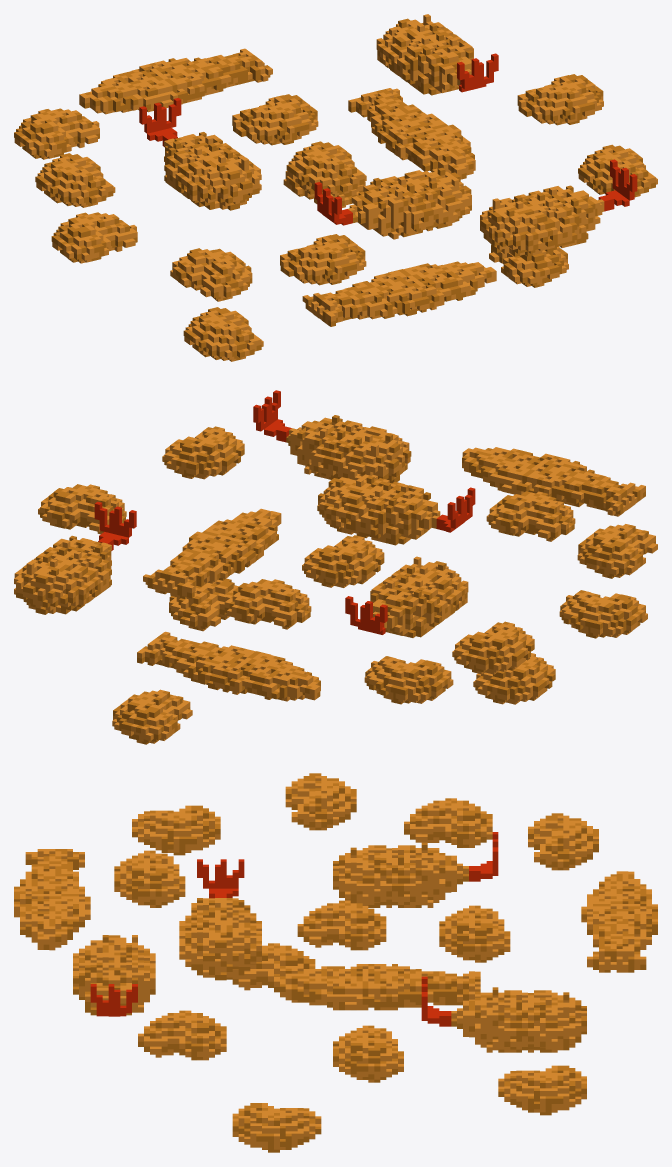
File: fried_fish_inner.obj
3 renders of one model, top to bottom at view 1: azimuth 30°, elevation 25°; view 2: azimuth 150°, elevation 25°; view 3: azimuth 270°, elevation 25°, orthographic. The views are drawn at different scales.
Parts seen in each view (by area): view 1: fried_fish_inner; view 2: fried_fish_inner; view 3: fried_fish_inner.
Boxes of the visible parts, x1,y1,x2,y2 form: fried_fish_inner: (14, 14, 657, 361); fried_fish_inner: (14, 390, 657, 744); fried_fish_inner: (14, 773, 657, 1152).
Size of the model in its own units: 115 by 31 by 109.
Materials: 1 (1 with a texture image).
